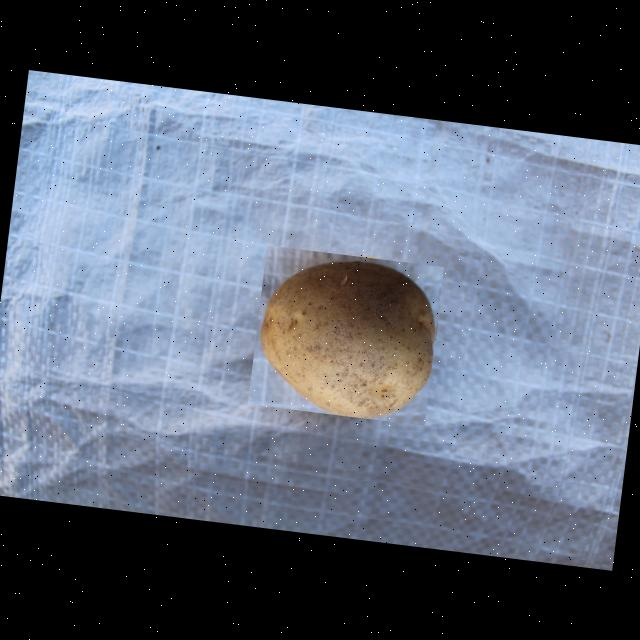Diseased-fungal potato: (247, 244, 443, 426)
